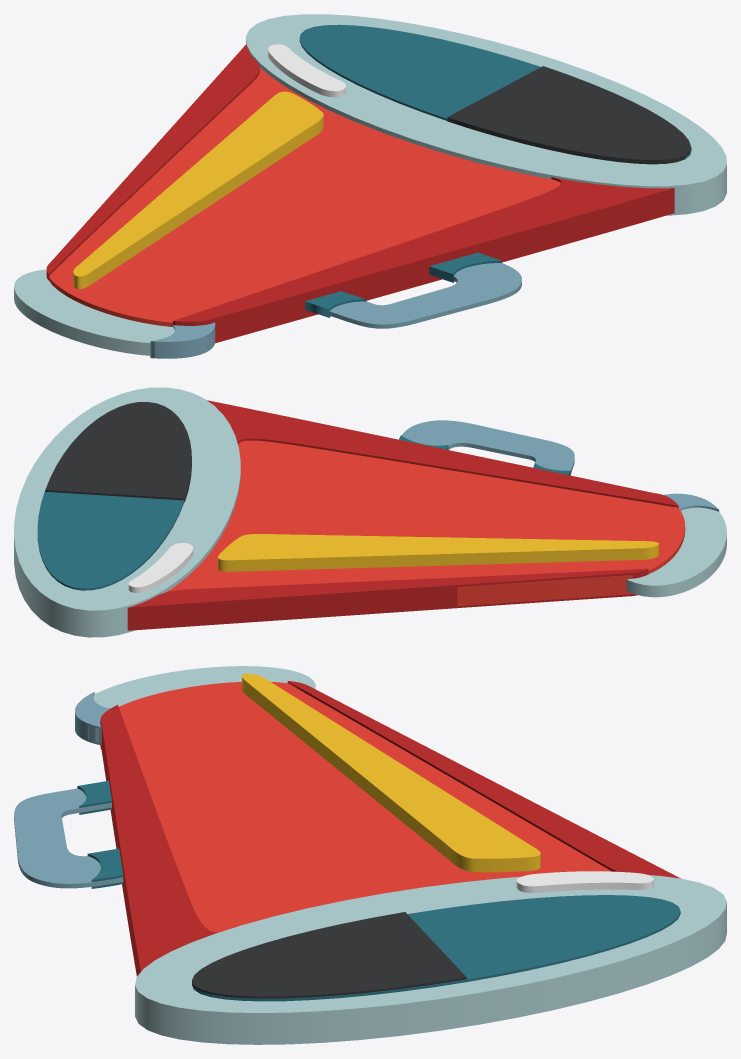
The model's file is emoji_u1f4e3.glb.
3 renders of one model, top to bottom at view 1: azimuth 30°, elevation 25°; view 2: azimuth 150°, elevation 25°; view 3: azimuth 270°, elevation 25°, orthographic. The views are drawn at different scales.
Visible parts, largest first — view 1: emoji_u1f4e3; view 2: emoji_u1f4e3; view 3: emoji_u1f4e3.
Part boxes in pixels (x1=…): emoji_u1f4e3: x1=14, y1=14, x2=726, y2=358; emoji_u1f4e3: x1=14, y1=387, x2=726, y2=637; emoji_u1f4e3: x1=14, y1=666, x2=726, y2=1044.
Size of the model in its own units: 0.0337 by 0.0022 by 0.0285.
